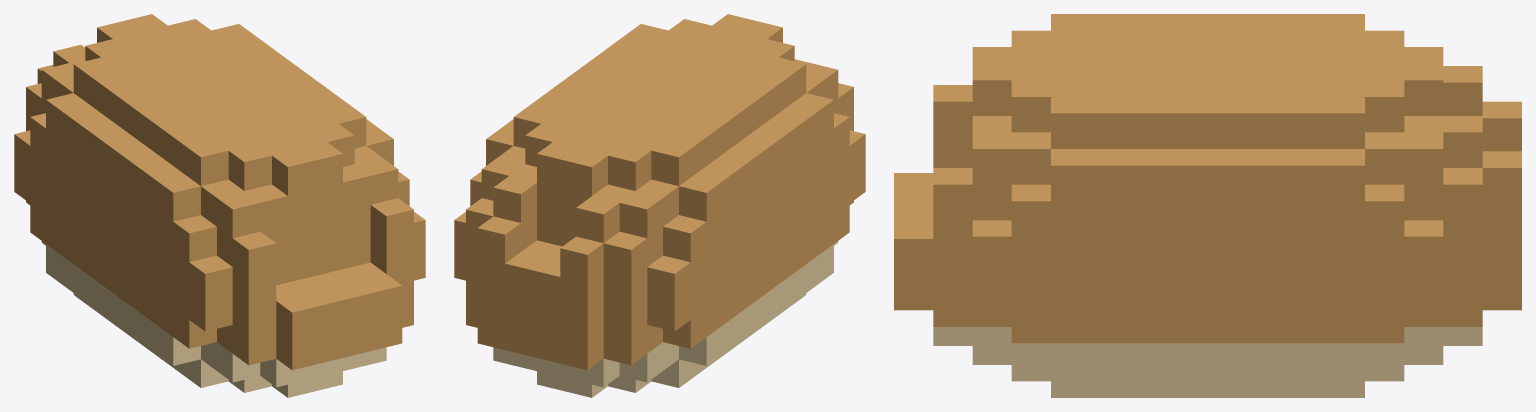
File: dog__body.glb
The picture shows the model from 3 angles, left to right: view 1: azimuth 30°, elevation 25°; view 2: azimuth 150°, elevation 25°; view 3: azimuth 270°, elevation 25°; orthographic projection. The views are drawn at different scales.
Visible parts, largest first — view 1: dog__body; view 2: dog__body; view 3: dog__body.
Boxes of the visible parts, left/top/right/bottom form: dog__body: left=14, top=14, right=425, bottom=397; dog__body: left=454, top=14, right=865, bottom=397; dog__body: left=894, top=14, right=1521, bottom=397.
Size of the model in its own units: 0.8 by 0.8 by 1.6.
Materials: 1 (1 with a texture image).
